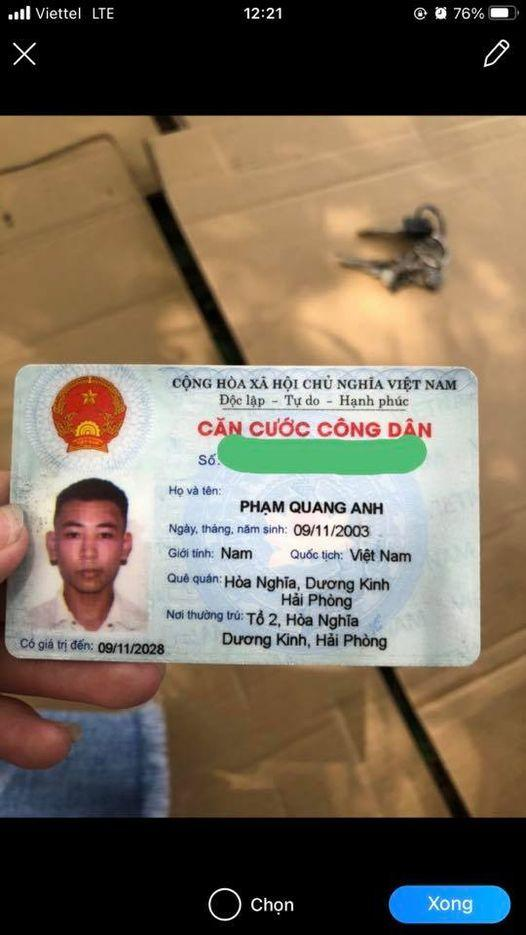bottom_left: (0, 630, 24, 668)
bottom_right: (448, 642, 486, 671)
image_person: (27, 473, 148, 624)
top_left: (2, 356, 34, 380)
top_right: (450, 358, 488, 394)
